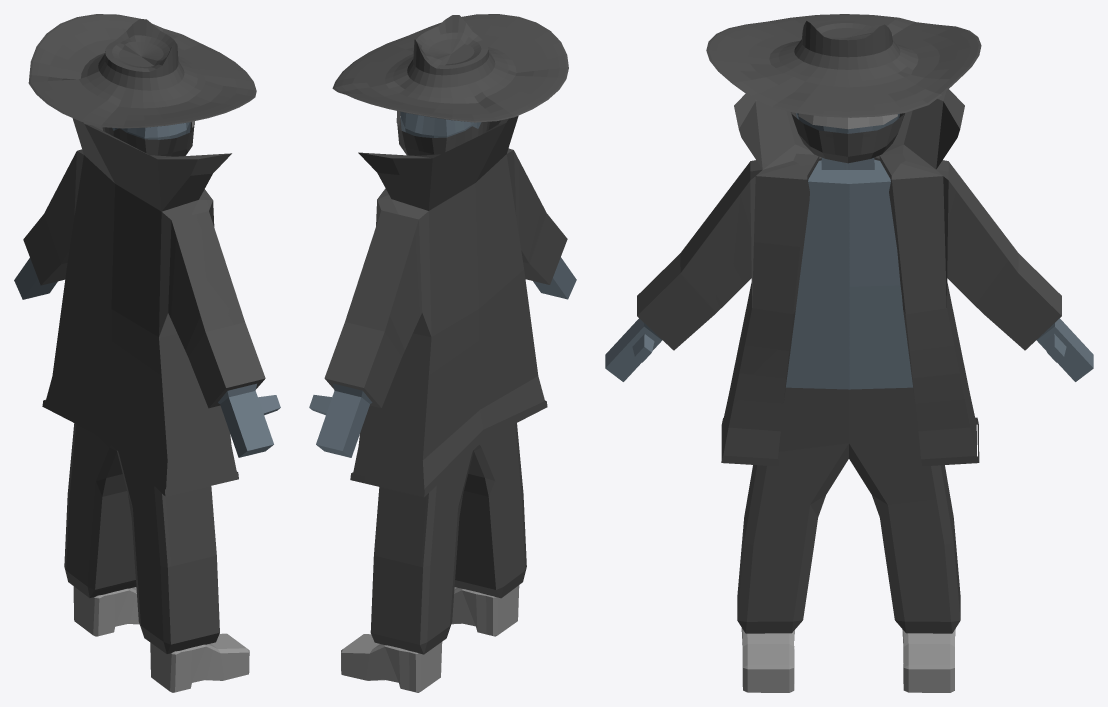
File: homer_simpsons_final.fbx
3 renders of one model, left to right at view 1: azimuth 30°, elevation 25°; view 2: azimuth 150°, elevation 25°; view 3: azimuth 270°, elevation 25°, orthographic. The views are drawn at different scales.
Visible parts, largest first — view 1: Torso; view 2: Torso; view 3: Torso.
Part boxes in pixels (x1,y1,x2,y2): Torso: (14, 14, 280, 692); Torso: (309, 14, 576, 692); Torso: (605, 14, 1093, 692).
Size of the model in its own units: 55.25 by 172 by 117.
Materials: 7 (7 with a texture image).
